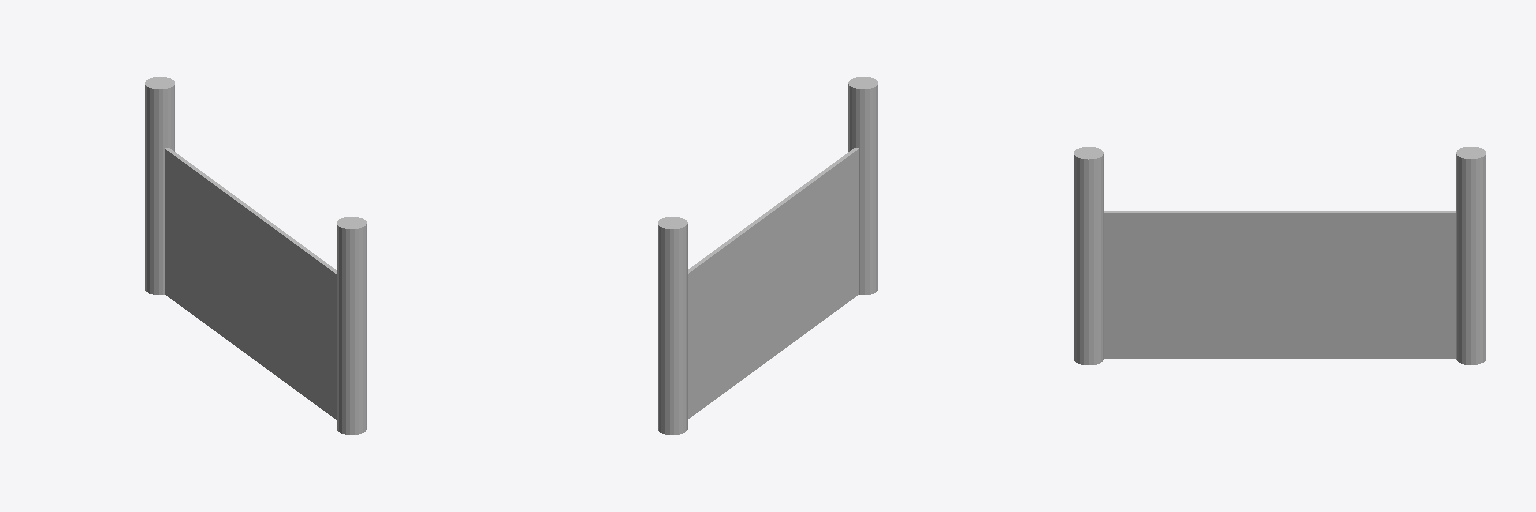
The model's file is walldouble21.obj.
3 views of the same model, side by side, from view 1: azimuth 30°, elevation 25°; view 2: azimuth 150°, elevation 25°; view 3: azimuth 270°, elevation 25° (orthographic).
Visible parts, largest first — view 1: walldouble21; view 2: walldouble21; view 3: walldouble21.
Part boxes in pixels (left/top/right/bottom): walldouble21: left=145, top=77, right=366, bottom=434; walldouble21: left=658, top=77, right=877, bottom=434; walldouble21: left=1074, top=147, right=1485, bottom=364.
Size of the model in its own units: 3.34 by 24.63 by 44.72.